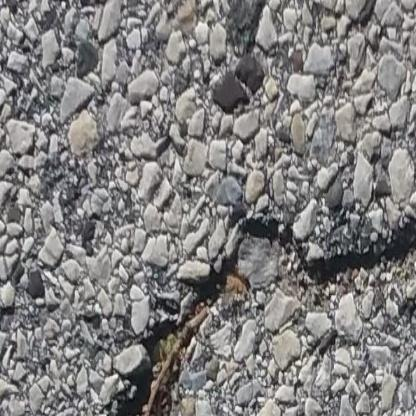Cracks: (94, 212, 416, 416)
